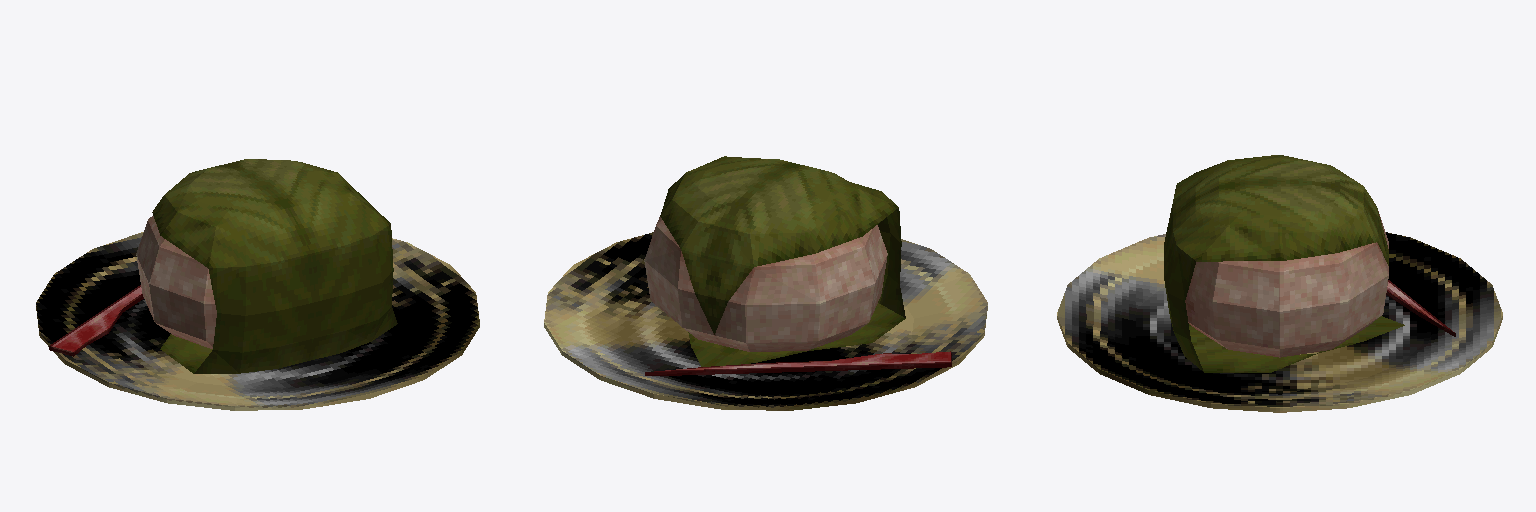
3 renders of one model, left to right at view 1: azimuth 30°, elevation 25°; view 2: azimuth 150°, elevation 25°; view 3: azimuth 270°, elevation 25°, orthographic.
Size of the model in its own units: 3.3 by 1.21 by 3.26.
1 materials, 1 textured.